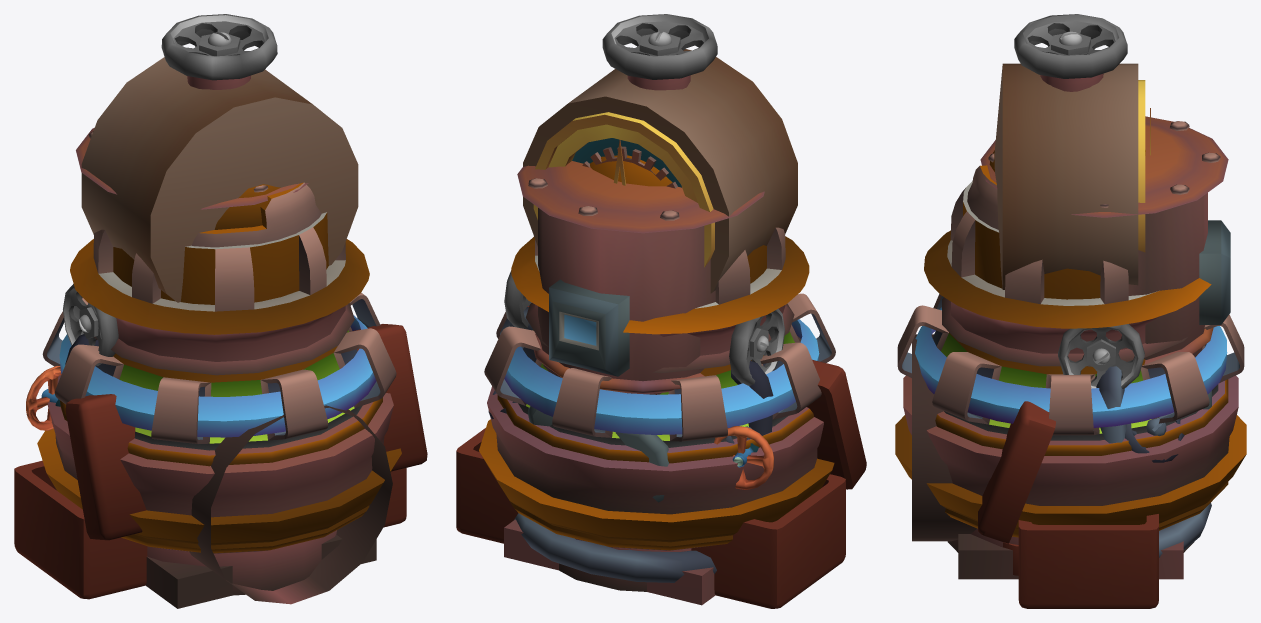
File: End_t4_a4.fbx
3 views of the same model, side by side, from view 1: azimuth 30°, elevation 25°; view 2: azimuth 150°, elevation 25°; view 3: azimuth 270°, elevation 25° (orthographic). The views are drawn at different scales.
Parts seen in each view (by area): view 1: End_t4_a4_lv5, End_t4_a4_lv3, End_t4_a4_lv1, End_t4_a4_lv4; view 2: End_t4_a4_lv5, End_t4_a4_lv4, End_t4_a4_lv3, End_t4_a4_lv1; view 3: End_t4_a4_lv5, End_t4_a4_lv3, End_t4_a4_lv4, End_t4_a4_lv1, End_t4_a4_lv2.
Boxes of the visible parts, x1,y1,x2,y2 form: End_t4_a4_lv5: (37, 75, 401, 595); End_t4_a4_lv3: (63, 14, 376, 608); End_t4_a4_lv1: (14, 324, 427, 599); End_t4_a4_lv4: (26, 128, 392, 604); End_t4_a4_lv5: (479, 75, 835, 591); End_t4_a4_lv4: (510, 161, 801, 582); End_t4_a4_lv3: (504, 14, 797, 605); End_t4_a4_lv1: (456, 306, 866, 608); End_t4_a4_lv5: (895, 73, 1246, 552); End_t4_a4_lv3: (958, 14, 1183, 579); End_t4_a4_lv4: (912, 116, 1230, 557); End_t4_a4_lv1: (978, 401, 1158, 608); End_t4_a4_lv2: (1003, 418, 1184, 575).
Size of the model in its own units: 4.22 by 6.29 by 4.01.
